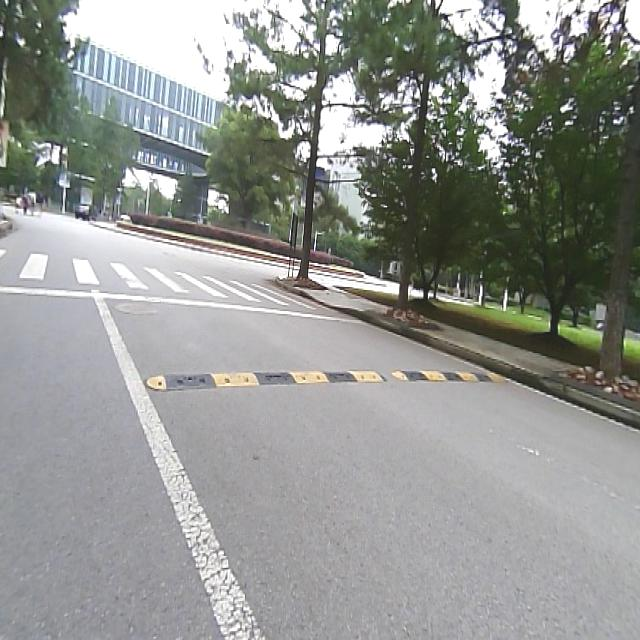Speed Bump: (147, 365, 503, 391)
